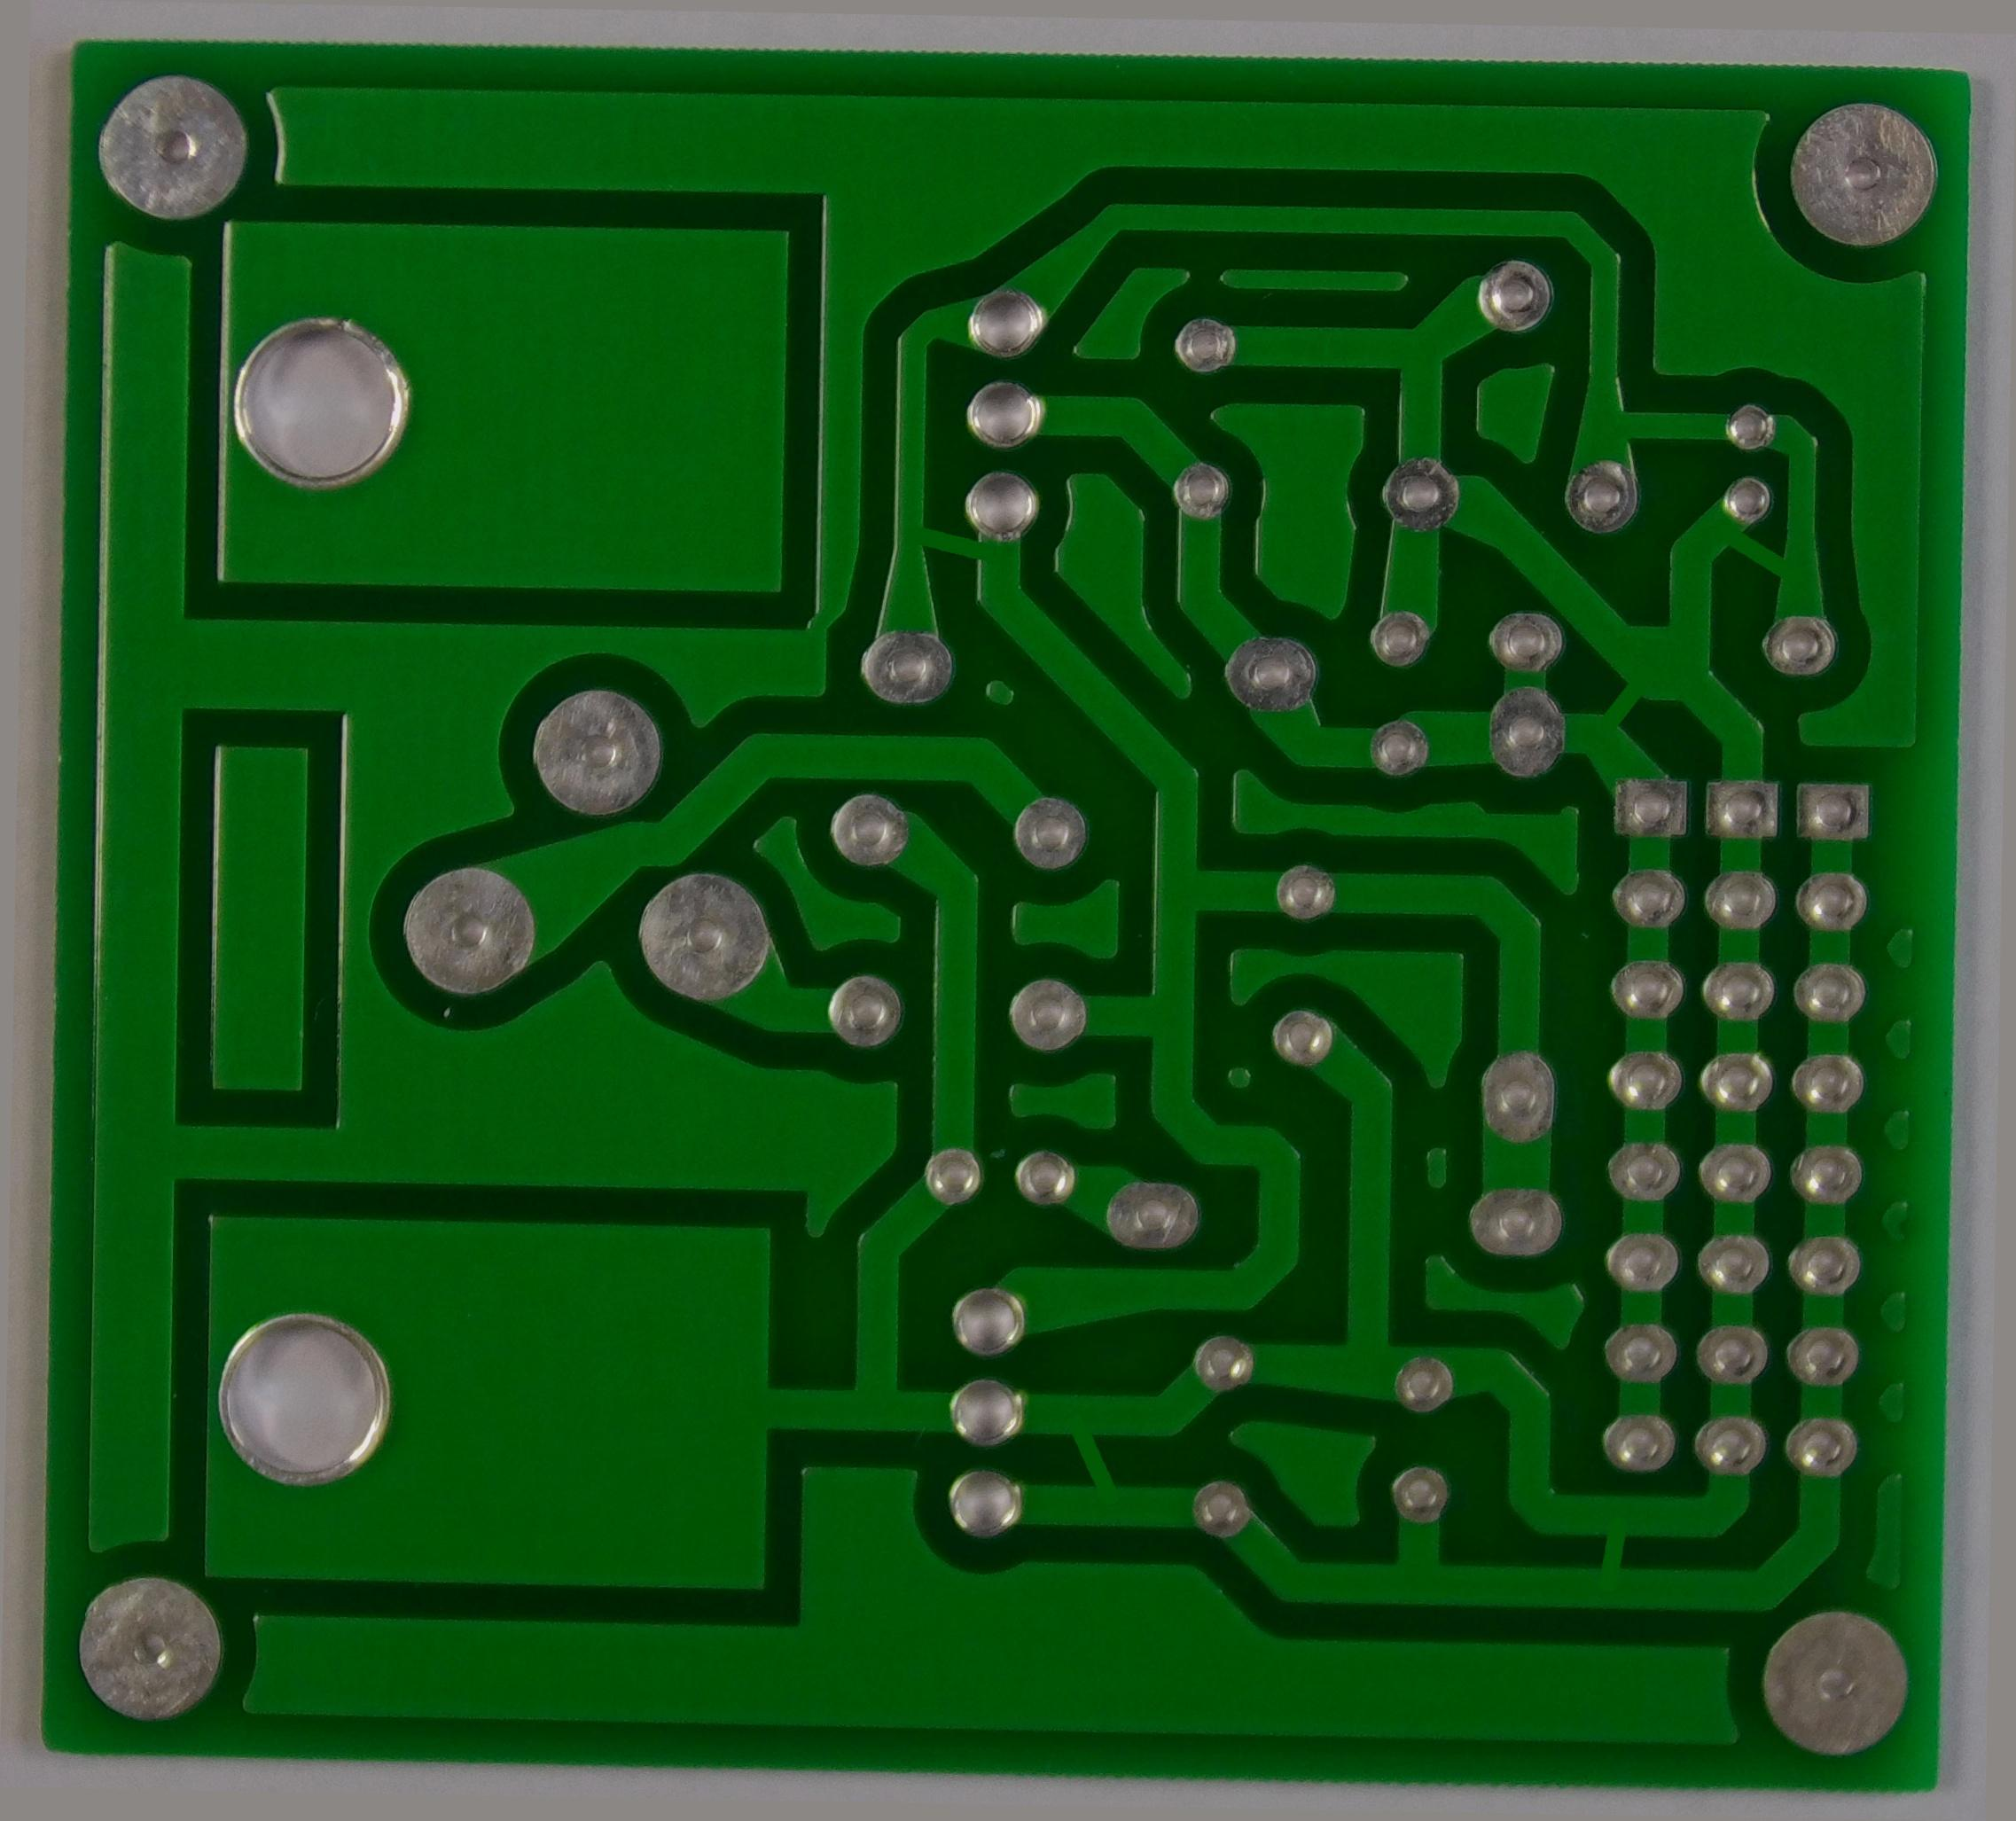short: (1034, 1396, 1141, 1533), (1554, 1484, 1663, 1614), (1556, 644, 1675, 760), (1688, 495, 1811, 599), (887, 499, 1012, 587)
